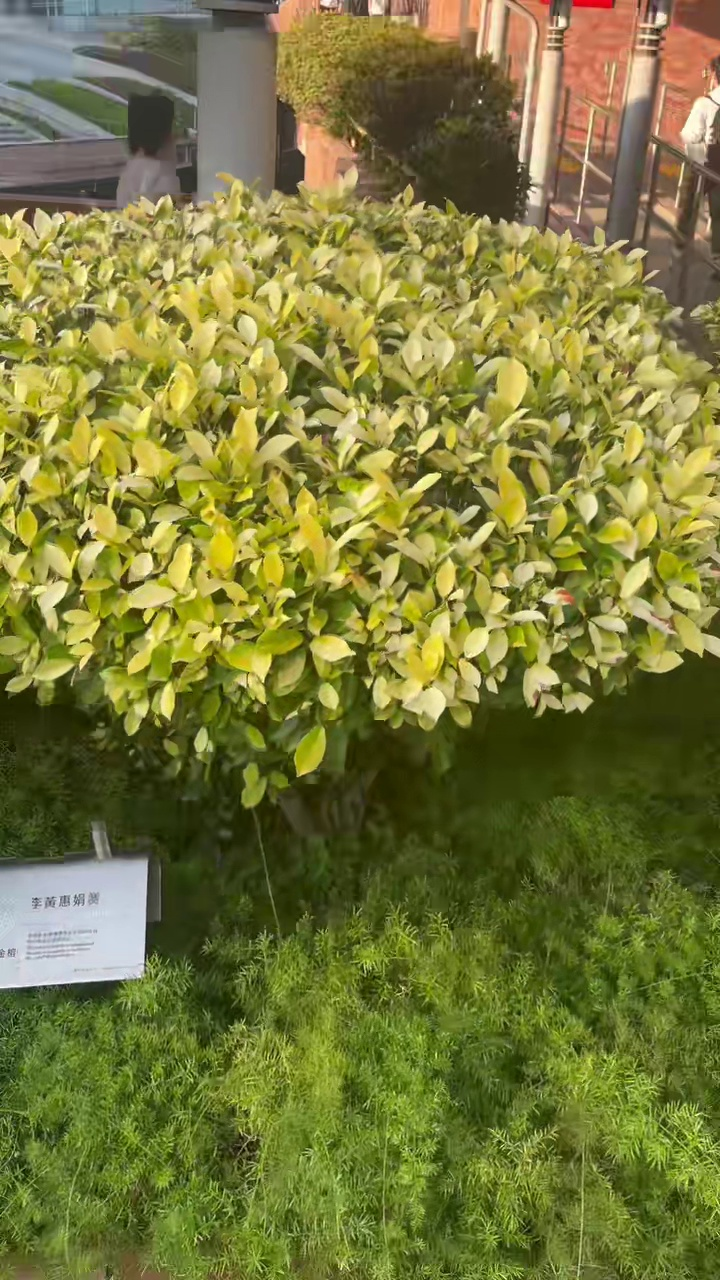Golden-leaves Fig: (0, 183, 719, 807)
